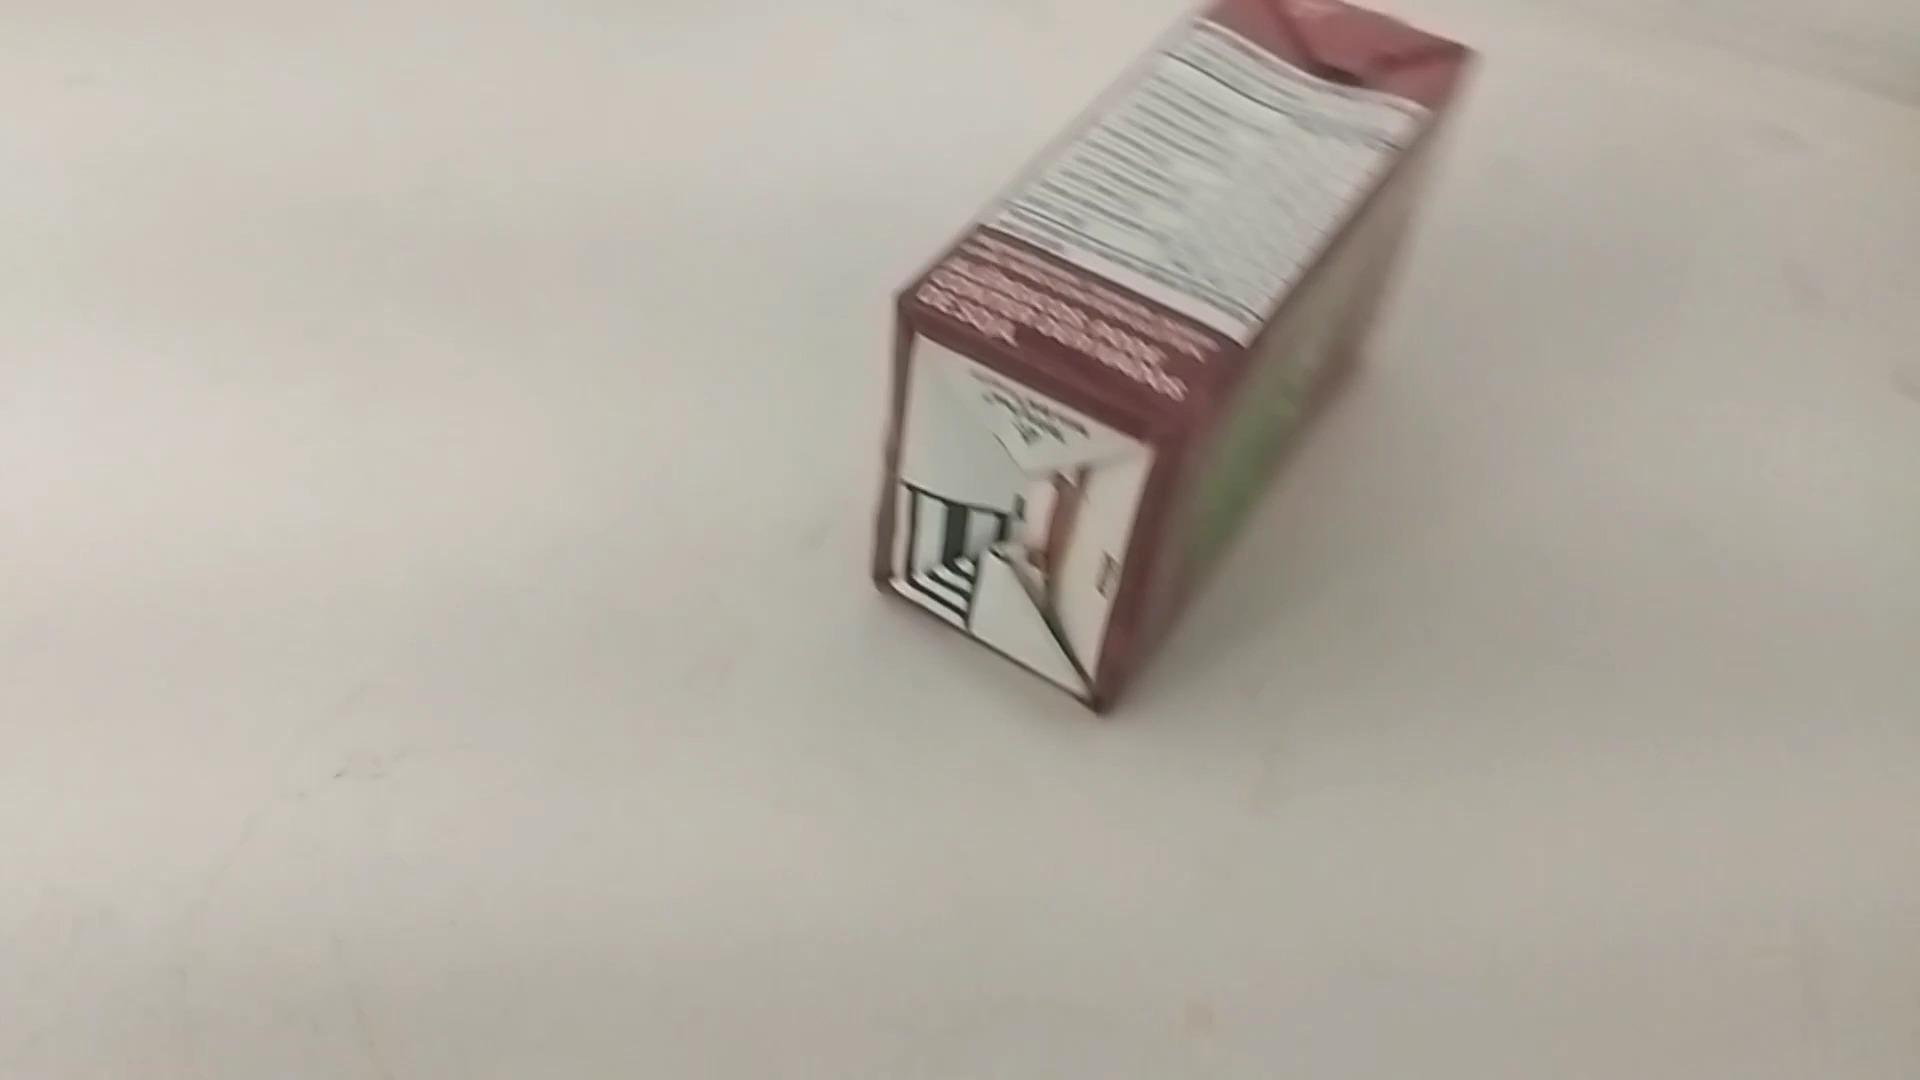tomate: (860, 0, 1480, 733)
